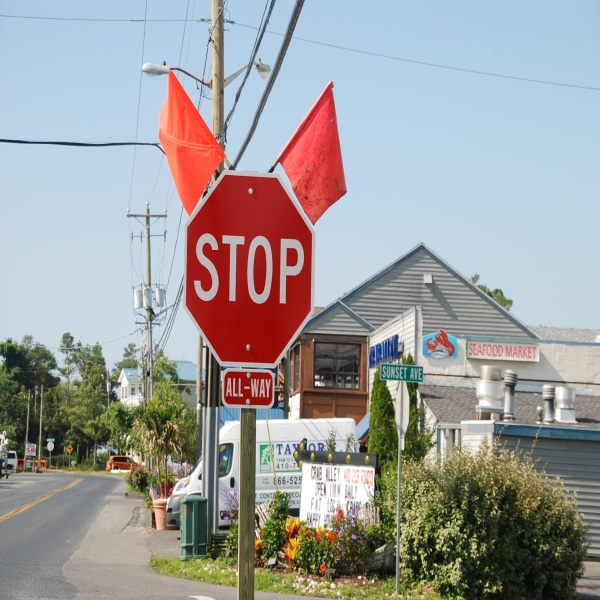stop: (178, 172, 322, 370)
